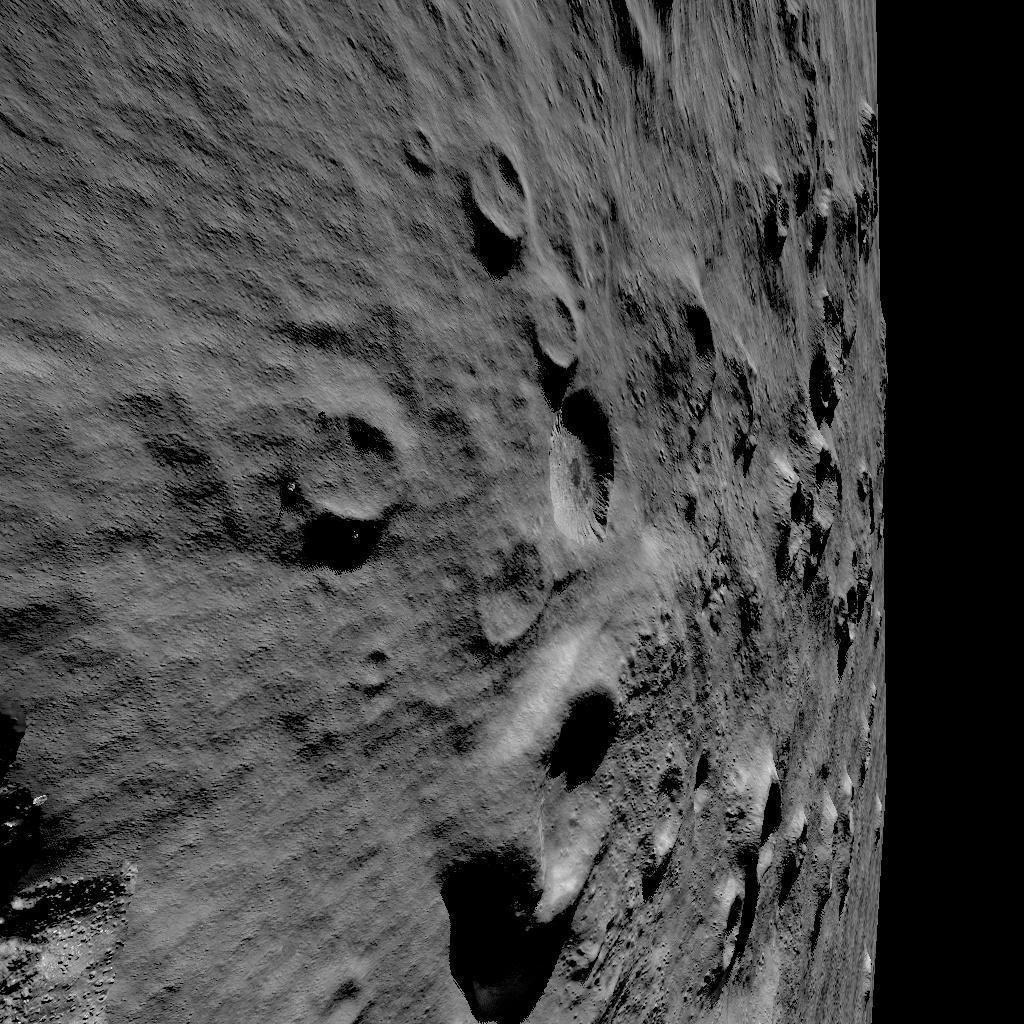Crater: (426, 625, 620, 985), (464, 138, 620, 542), (641, 720, 858, 979), (776, 305, 870, 645), (526, 0, 828, 100), (656, 295, 750, 490), (281, 410, 403, 535), (754, 132, 866, 262)
Plan surface: (0, 0, 386, 395), (54, 565, 370, 1024), (0, 422, 198, 542)
